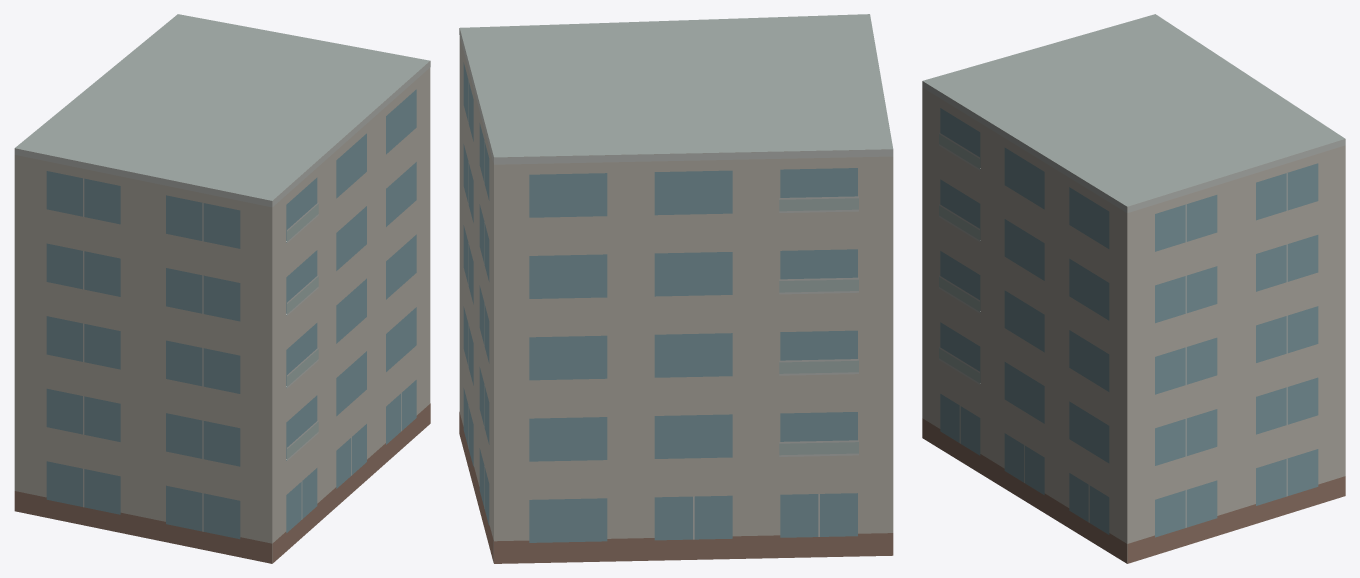
File: survey-upis-32887734.glb
The picture shows the model from 3 angles, left to right: view 1: azimuth 30°, elevation 25°; view 2: azimuth 150°, elevation 25°; view 3: azimuth 270°, elevation 25°; orthographic projection. The views are drawn at different scales.
Visible parts, largest first — view 1: survey-upis-32887734.tmp; view 2: survey-upis-32887734.tmp; view 3: survey-upis-32887734.tmp.
Part boxes in pixels (left/top/right/bottom): survey-upis-32887734.tmp: left=14, top=14, right=430, bottom=563; survey-upis-32887734.tmp: left=459, top=14, right=893, bottom=563; survey-upis-32887734.tmp: left=922, top=14, right=1345, bottom=563.
Bounding box in the file's own units: 15.7 × 13.55 × 14.57.
